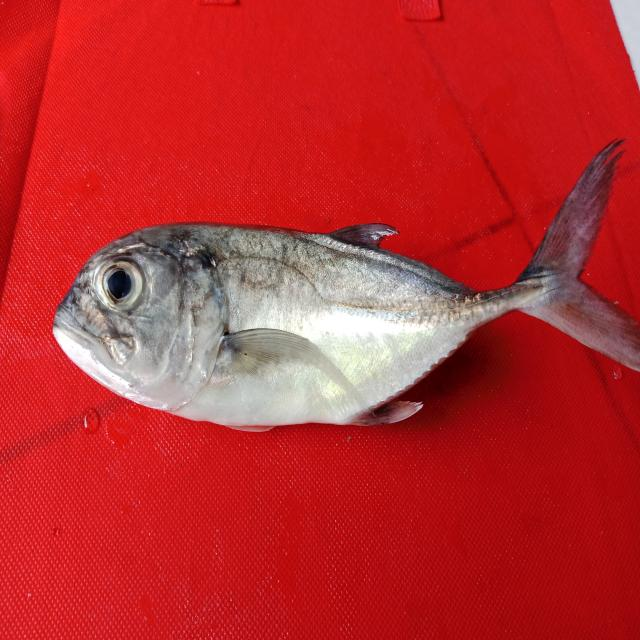ikan: (43, 142, 631, 442)
